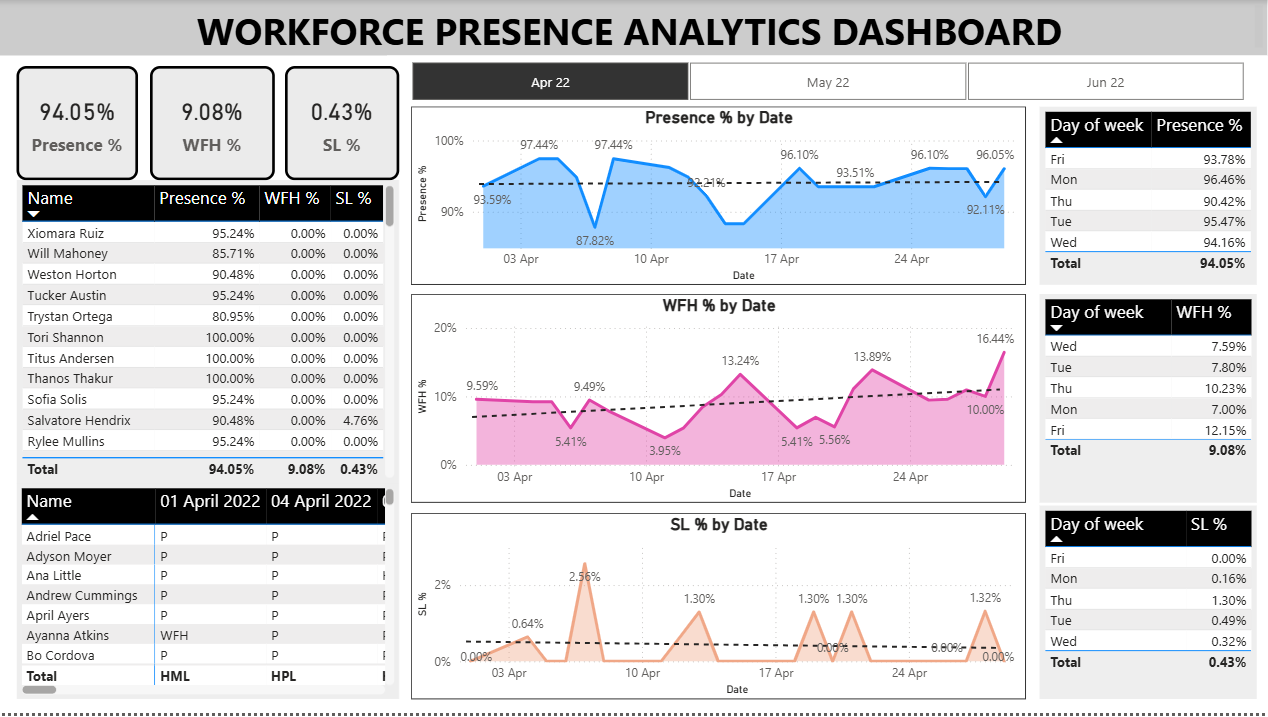

What the dashboard file says about the page in this screenshot:
{"tool":"powerbi","page":{"name":"Presence_analytics_dashboard","canvas":[1280,720],"ordinal":0},"visuals":[{"type":"textbox","box":[0,0,1279.5,56],"z":0},{"type":"card","fields":{"Values":["Measure Table.Presence %"]},"box":[16.7,66.6,122.7,115.1],"z":1000},{"type":"slicer","fields":{"Values":["Final Data.Month"]},"box":[390.7,56,888.8,51.5],"z":2000},{"type":"card","fields":{"Values":["Measure Table.WFH %"]},"box":[151.4,66.6,125.7,115.1],"z":3000},{"type":"card","fields":{"Values":["Measure Table.SL %"]},"box":[287.7,66.6,115.1,115.1],"z":4000},{"type":"tableEx","fields":{"Values":["Final Data.Name","Measure Table.Presence %","Measure Table.WFH %","Measure Table.SL %"]},"box":[16.7,181.7,386.1,305.9],"z":5000},{"type":"pivotTable","fields":{"Columns":["Final Data.Date"],"Rows":["Final Data.Name"],"Values":["Min(Final Data.Value)"]},"box":[16.7,487.6,386.1,218],"z":6000},{"type":"areaChart","fields":{"Category":["Final Data.Date"],"Y":["Measure Table.Presence %"]},"box":[414.9,107.5,620.8,180.2],"z":7000},{"type":"areaChart","fields":{"Category":["Final Data.Date"],"Y":["Measure Table.WFH %"]},"box":[414.9,296.8,620.8,210.5],"z":8000},{"type":"areaChart","fields":{"Category":["Final Data.Date"],"Y":["Measure Table.SL %"]},"box":[414.9,517.9,620.8,187.8],"z":9000},{"type":"tableEx","fields":{"Values":["Final Data.Day of week","Measure Table.Presence %"]},"box":[1049.3,107.5,219.6,180.2],"z":10000},{"type":"tableEx","fields":{"Values":["Final Data.Day of week","Measure Table.WFH %"]},"box":[1049.3,296.8,219.6,210.5],"z":11000},{"type":"tableEx","fields":{"Values":["Final Data.Day of week","Measure Table.SL %"]},"box":[1049.3,510.3,219.6,195.3],"z":12000}]}

Visuals, with their boxes in screenshot pixels (x1, y1, x2, y2), scaled from the page's 1280x720 canvas onto the 1268x717 screenshot:
textbox: region(0, 0, 1267, 56)
card - Measure Table.Presence %: region(17, 66, 138, 181)
slicer - Final Data.Month: region(387, 56, 1267, 107)
card - Measure Table.WFH %: region(150, 66, 275, 181)
card - Measure Table.SL %: region(285, 66, 399, 181)
tableEx - Final Data.Name x Measure Table.Presence %: region(17, 181, 399, 486)
pivotTable - Final Data.Date x Final Data.Name: region(17, 486, 399, 703)
areaChart - Final Data.Date x Measure Table.Presence %: region(411, 107, 1026, 287)
areaChart - Final Data.Date x Measure Table.WFH %: region(411, 296, 1026, 505)
areaChart - Final Data.Date x Measure Table.SL %: region(411, 516, 1026, 703)
tableEx - Final Data.Day of week x Measure Table.Presence %: region(1039, 107, 1257, 287)
tableEx - Final Data.Day of week x Measure Table.WFH %: region(1039, 296, 1257, 505)
tableEx - Final Data.Day of week x Measure Table.SL %: region(1039, 508, 1257, 703)
